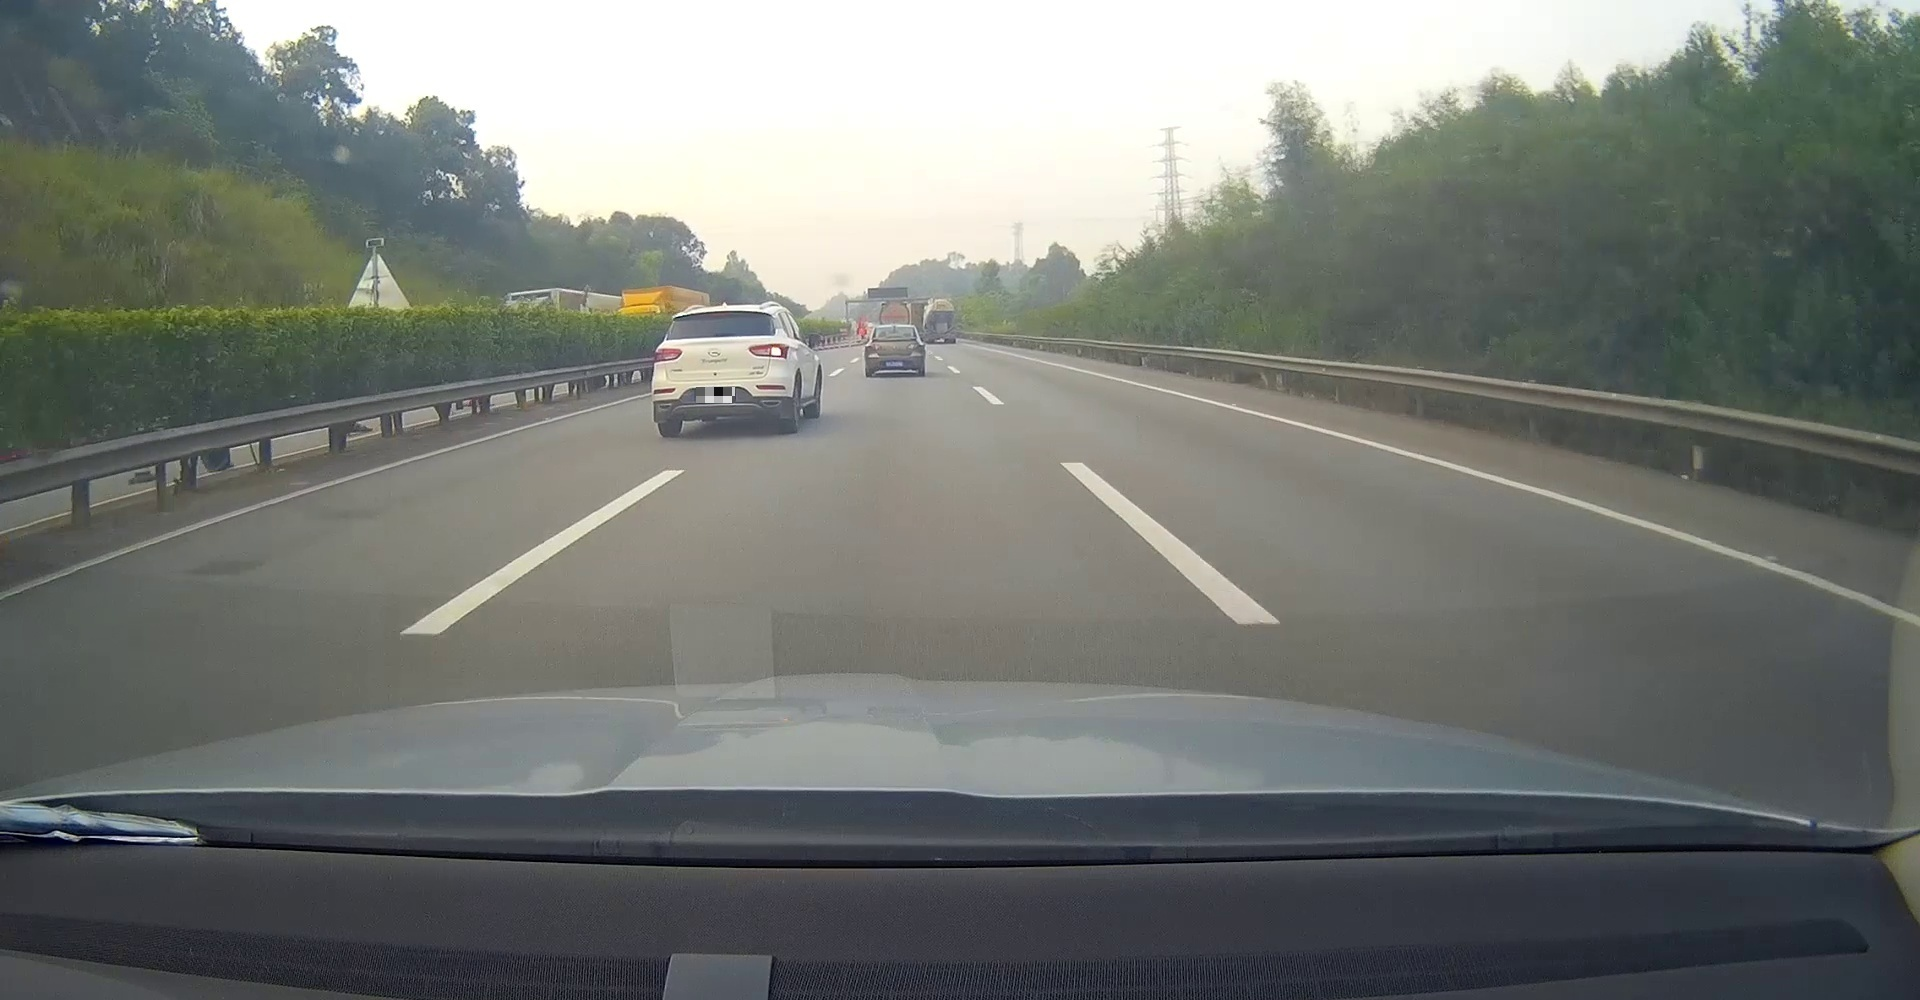L_light: (651, 348, 682, 363), (865, 343, 877, 350)
R_light: (748, 343, 790, 359), (907, 343, 922, 350)
T_light: (710, 312, 729, 319), (888, 327, 899, 330)
day-no: (863, 324, 924, 378)
day-right: (650, 305, 792, 437)
plate_1: (696, 387, 735, 404)
